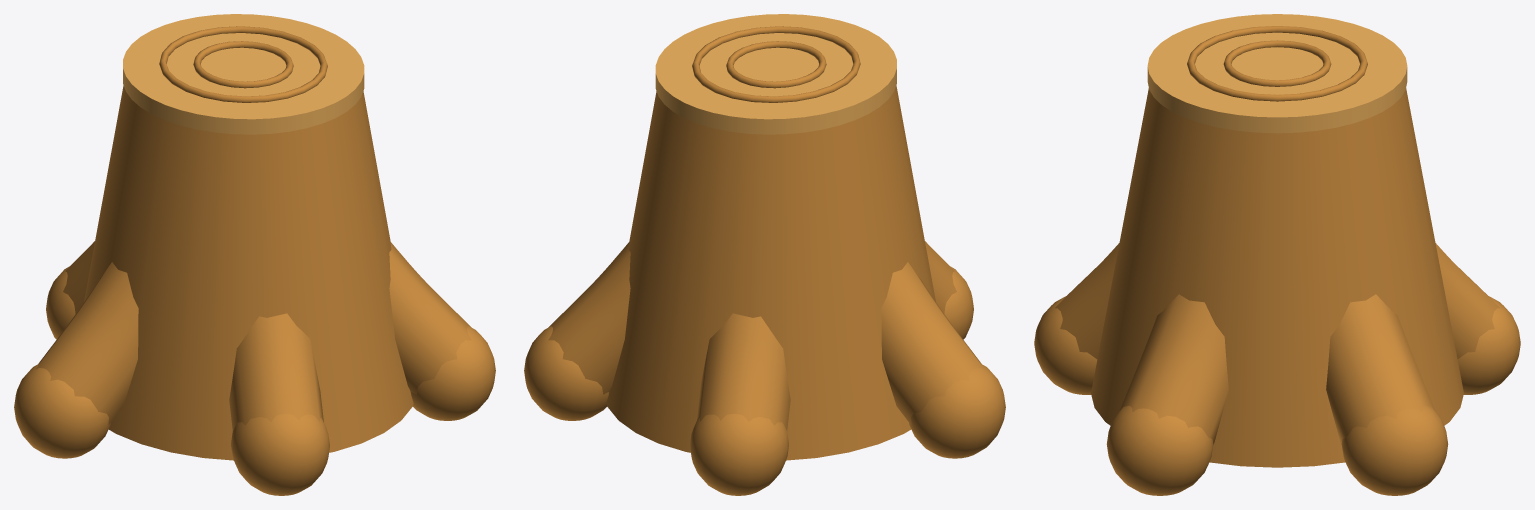
The model's file is tree_cooldown.fbx.
The picture shows the model from 3 angles, left to right: view 1: azimuth 30°, elevation 25°; view 2: azimuth 150°, elevation 25°; view 3: azimuth 270°, elevation 25°; orthographic projection. The views are drawn at different scales.
Parts seen in each view (by area): view 1: tree_cooldown; view 2: tree_cooldown; view 3: tree_cooldown.
Boxes of the visible parts, x1,y1,x2,y2 form: tree_cooldown: [14, 14, 495, 495]; tree_cooldown: [524, 14, 1005, 495]; tree_cooldown: [1034, 14, 1520, 495].
Bounding box in the file's own units: 0.8 × 0.65 × 0.8.
1 material, 1 textured.
